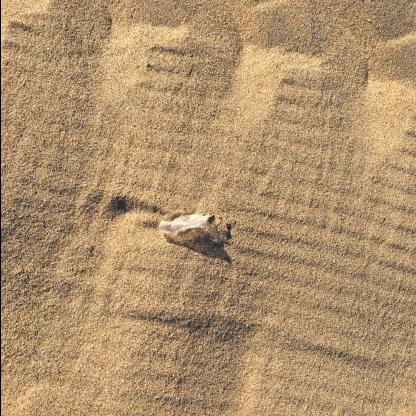diger: (158, 214, 230, 245)
